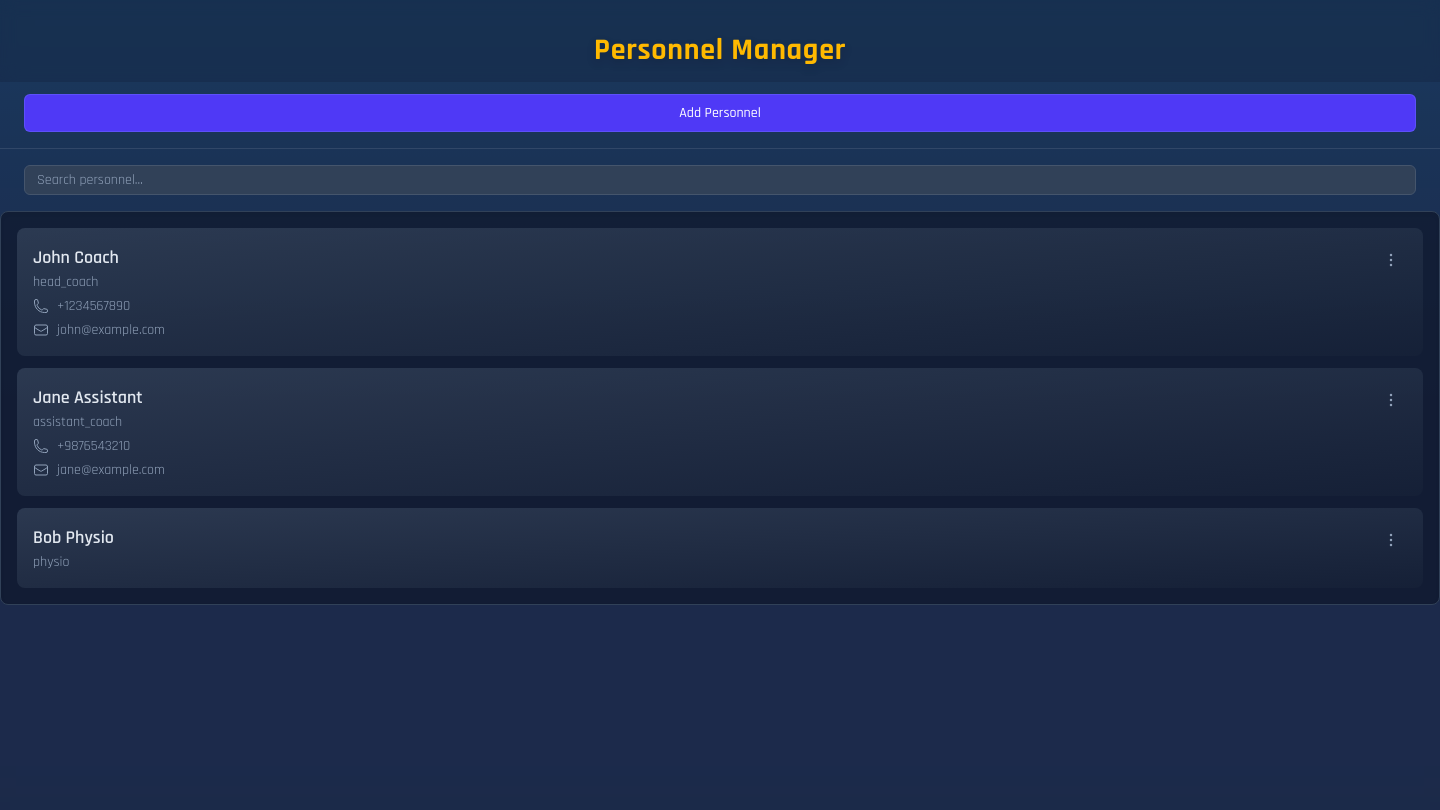
PersonnelManagerModal › Add Personnel › should show add form when Add Personnel button clicked
The width and height of the screenshot is (1440, 810).
Click the button "Add Personnel" at (720, 112), box left=24, top=94, right=1416, bottom=132
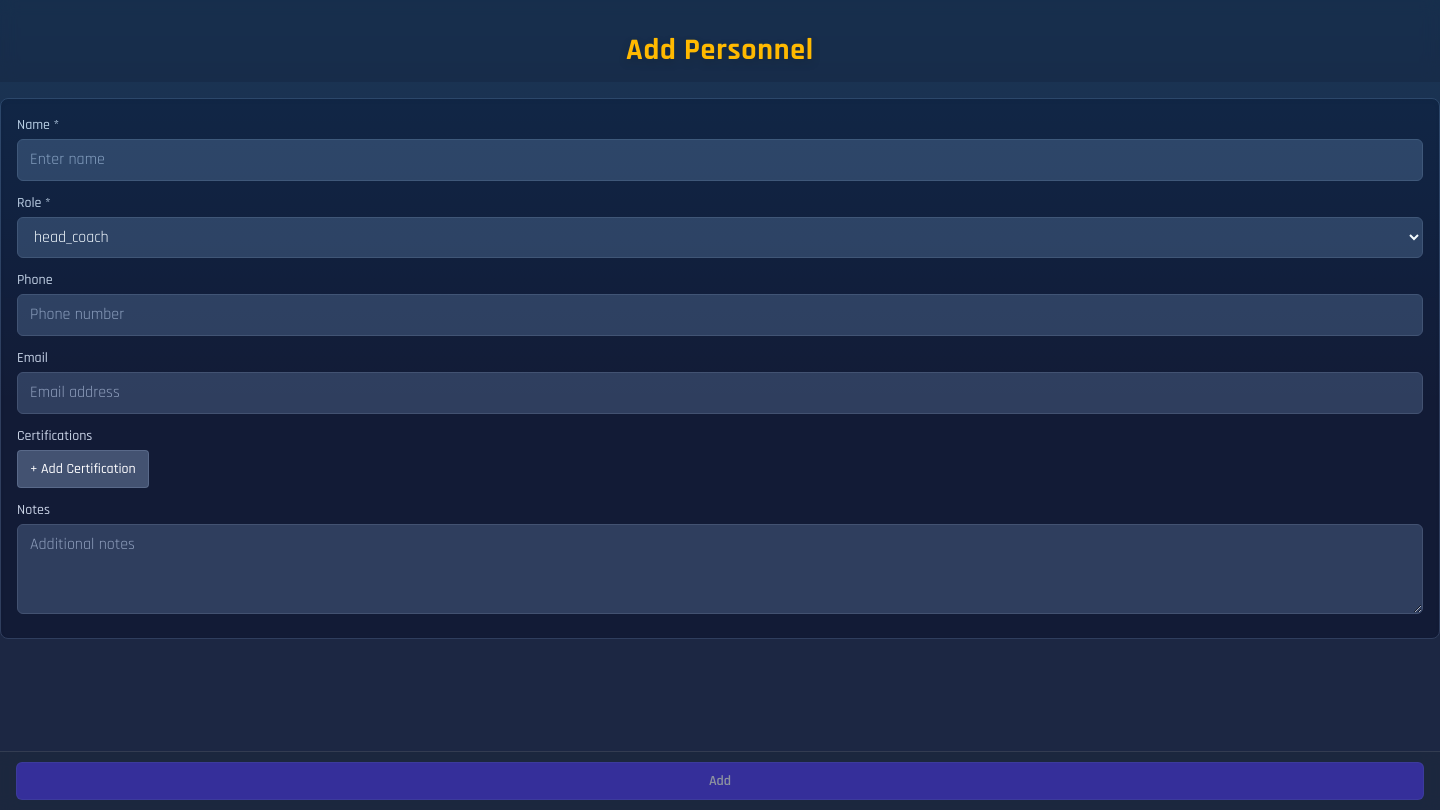
Expected: the field with placeholder "Enter name" is shown, left=17, top=138, right=1423, bottom=180
Expected: the dropdown is shown, left=17, top=216, right=1423, bottom=258
